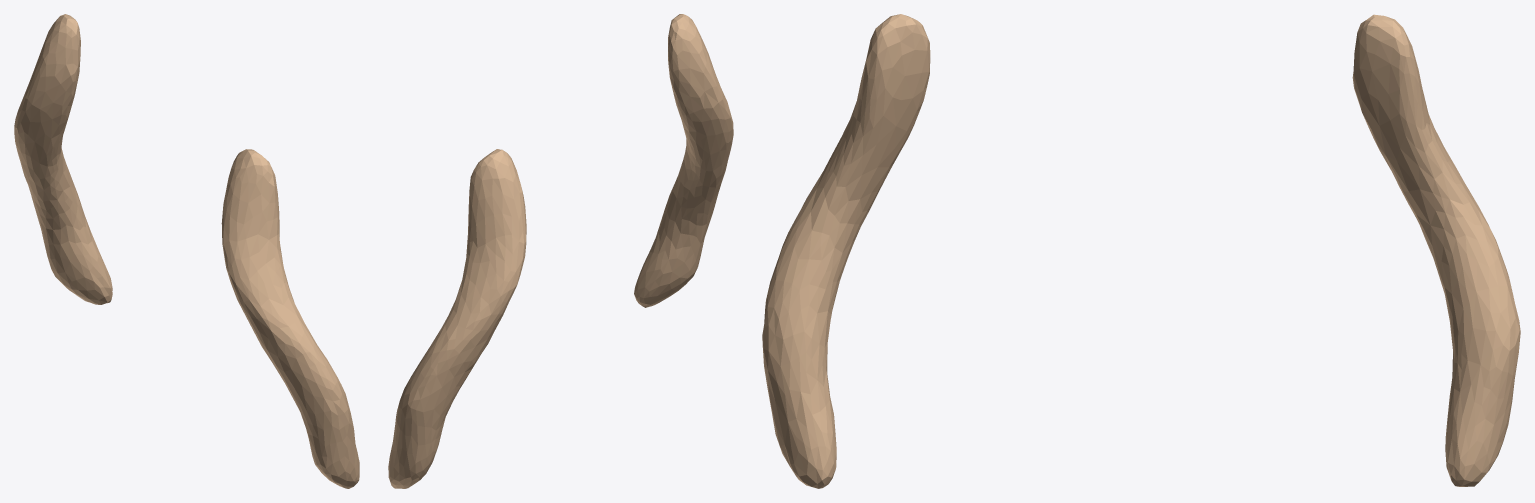
3 renders of one model, left to right at view 1: azimuth 30°, elevation 25°; view 2: azimuth 150°, elevation 25°; view 3: azimuth 270°, elevation 25°, orthographic. The views are drawn at different scales.
Visible parts, largest first — view 1: 612.obj; view 2: 612.obj; view 3: 612.obj.
Part boxes in pixels (x1,y1,x2,y2): 612.obj: [14, 14, 359, 488]; 612.obj: [388, 14, 733, 488]; 612.obj: [762, 14, 1520, 488].
Size of the model in its own units: 1013 by 2833 by 4518.
